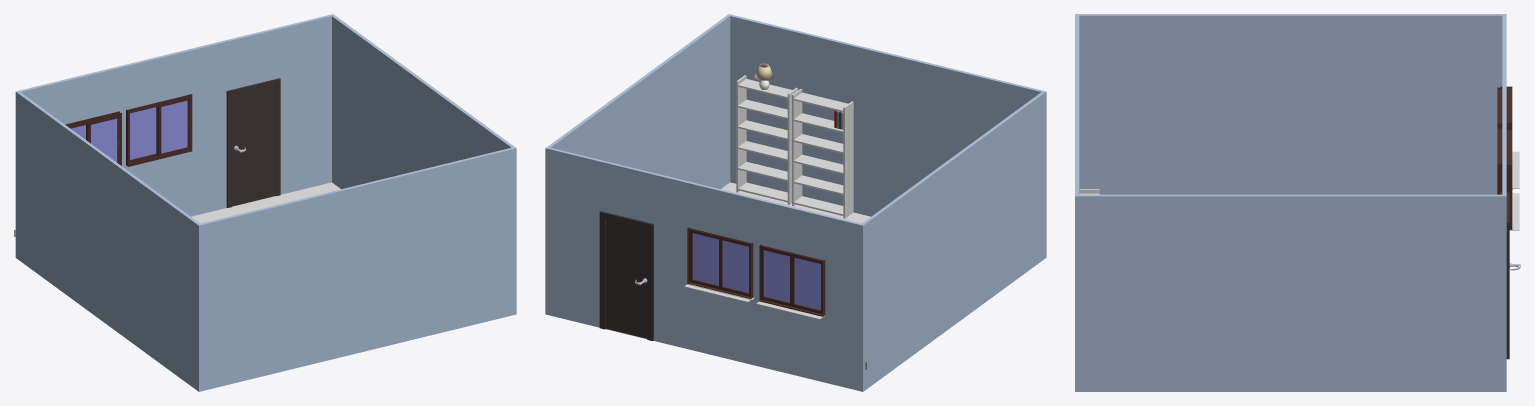
File: ruangan vr1.fbx
The picture shows the model from 3 angles, left to right: view 1: azimuth 30°, elevation 25°; view 2: azimuth 150°, elevation 25°; view 3: azimuth 270°, elevation 25°; orthographic projection. The views are drawn at different scales.
Parts seen in each view (by area): view 1: Room, Door, Window.R.001, DoorFrame, Window.L.005, Floor, Window.R, WindowFrame.003; view 2: Room, Shelves1.001, Door, Shelves1, DoorFrame, Window.L.001, Window.L, Window.L.002, Window.L.003, WindowFrame.001, WindowFrame, Floor; view 3: Room, WindowFrame, DoorFrame, WindowFrame.001.
Part boxes in pixels (x1,y1,x2,y2): Room: (15, 14, 516, 391); Door: (232, 84, 275, 206); Window.R.001: (157, 97, 189, 157); DoorFrame: (226, 78, 280, 207); Window.L.005: (129, 105, 157, 162); Floor: (191, 182, 340, 223); Window.R: (87, 115, 119, 164); WindowFrame.003: (126, 94, 192, 166); Room: (545, 14, 1046, 391); Shelves1.001: (792, 89, 853, 218); Door: (606, 219, 647, 338); Shelves1: (736, 75, 797, 204); DoorFrame: (599, 211, 653, 340); Window.L.001: (791, 255, 822, 314); Window.L: (719, 238, 750, 296); Window.L.002: (689, 230, 721, 289); Window.L.003: (761, 248, 792, 306); WindowFrame.001: (759, 244, 825, 316); WindowFrame: (687, 227, 753, 298); Floor: (721, 182, 870, 223); Room: (1075, 14, 1506, 391); WindowFrame: (1500, 128, 1512, 229); DoorFrame: (1500, 192, 1509, 359); WindowFrame.001: (1500, 86, 1512, 128).
Bounding box in the file's own units: 604 × 300 × 620.
